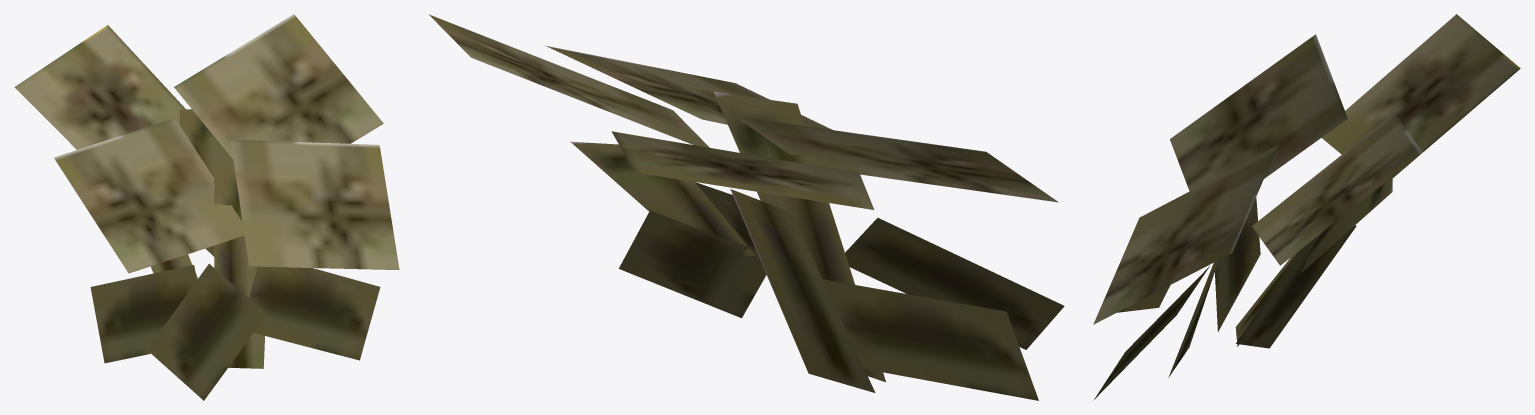
Rendered from flw_yuri_x.dae.
3 views of the same model, side by side, from view 1: azimuth 30°, elevation 25°; view 2: azimuth 150°, elevation 25°; view 3: azimuth 270°, elevation 25° (orthographic). The views are drawn at different scales.
Parts seen in each view (by area): view 1: flw_yuri_x; view 2: flw_yuri_x; view 3: flw_yuri_x.
Part boxes in pixels (box(x1,y1,x2,y2)): flw_yuri_x: box(14, 14, 399, 400); flw_yuri_x: box(428, 14, 1064, 400); flw_yuri_x: box(1093, 14, 1520, 400).
Bounding box in the file's own units: 31.8 × 23.79 × 30.05.
1 material, 1 textured.
